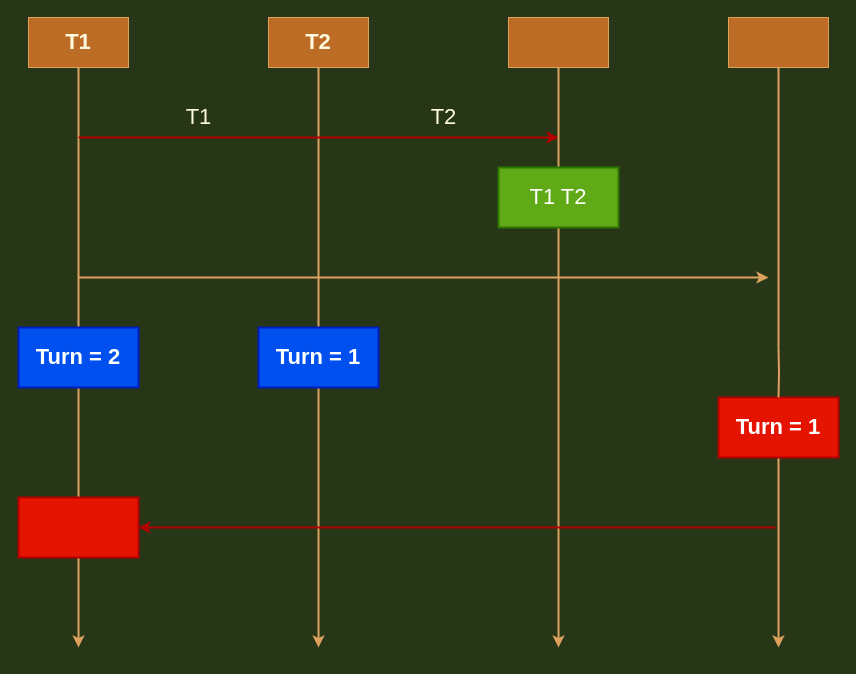
This 856x674 diagram has some shape labels left out. The centre of each missing label's shape, as x and y in pixels:
"FLAGS" goes at pixel 558 42.
"Let Go" goes at pixel 78 527.
"TURN" goes at pixel 778 42.
